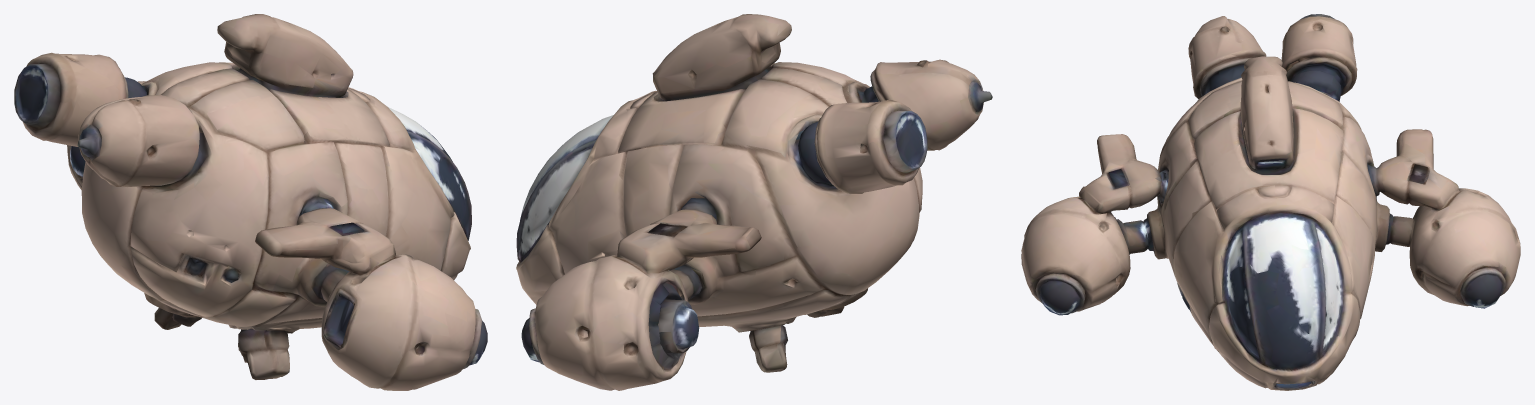
File: supportive.glb
3 renders of one model, left to right at view 1: azimuth 30°, elevation 25°; view 2: azimuth 150°, elevation 25°; view 3: azimuth 270°, elevation 25°, orthographic. The views are drawn at different scales.
Parts seen in each view (by area): view 1: tripo_node_6afac3d7-4280-44d8-a593-d31b7b060f6f; view 2: tripo_node_6afac3d7-4280-44d8-a593-d31b7b060f6f; view 3: tripo_node_6afac3d7-4280-44d8-a593-d31b7b060f6f.
Part boxes in pixels (x1,y1,x2,y2): tripo_node_6afac3d7-4280-44d8-a593-d31b7b060f6f: (14, 14, 487, 390); tripo_node_6afac3d7-4280-44d8-a593-d31b7b060f6f: (516, 14, 992, 390); tripo_node_6afac3d7-4280-44d8-a593-d31b7b060f6f: (1021, 14, 1520, 390).
Size of the model in its own units: 0.7723 by 0.566 by 0.9796.
1 material, 1 textured.
